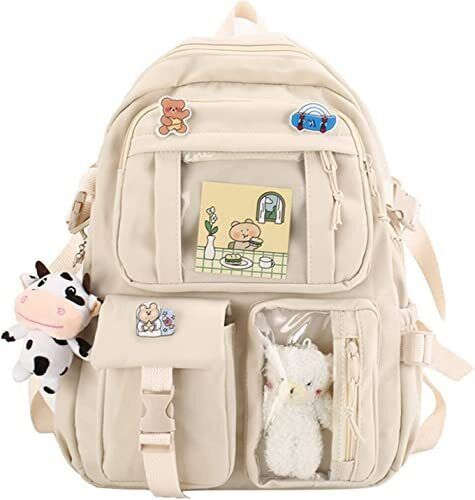nylon: (24, 34, 475, 490)
